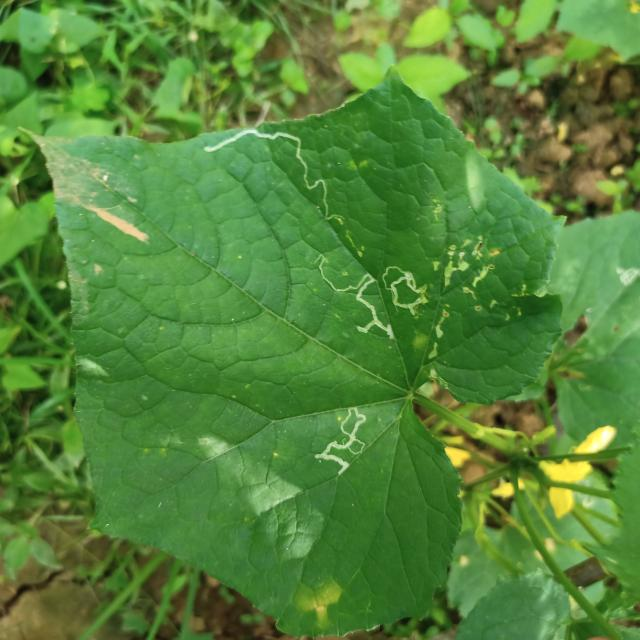disease_cucumber: (301, 579, 340, 631)
